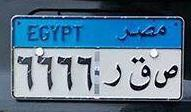6: (77, 56, 95, 89), (17, 55, 33, 89), (38, 54, 53, 88), (58, 54, 72, 90)
qaaf: (129, 57, 152, 89)
raa: (103, 64, 123, 90)
saad: (153, 63, 179, 87)
